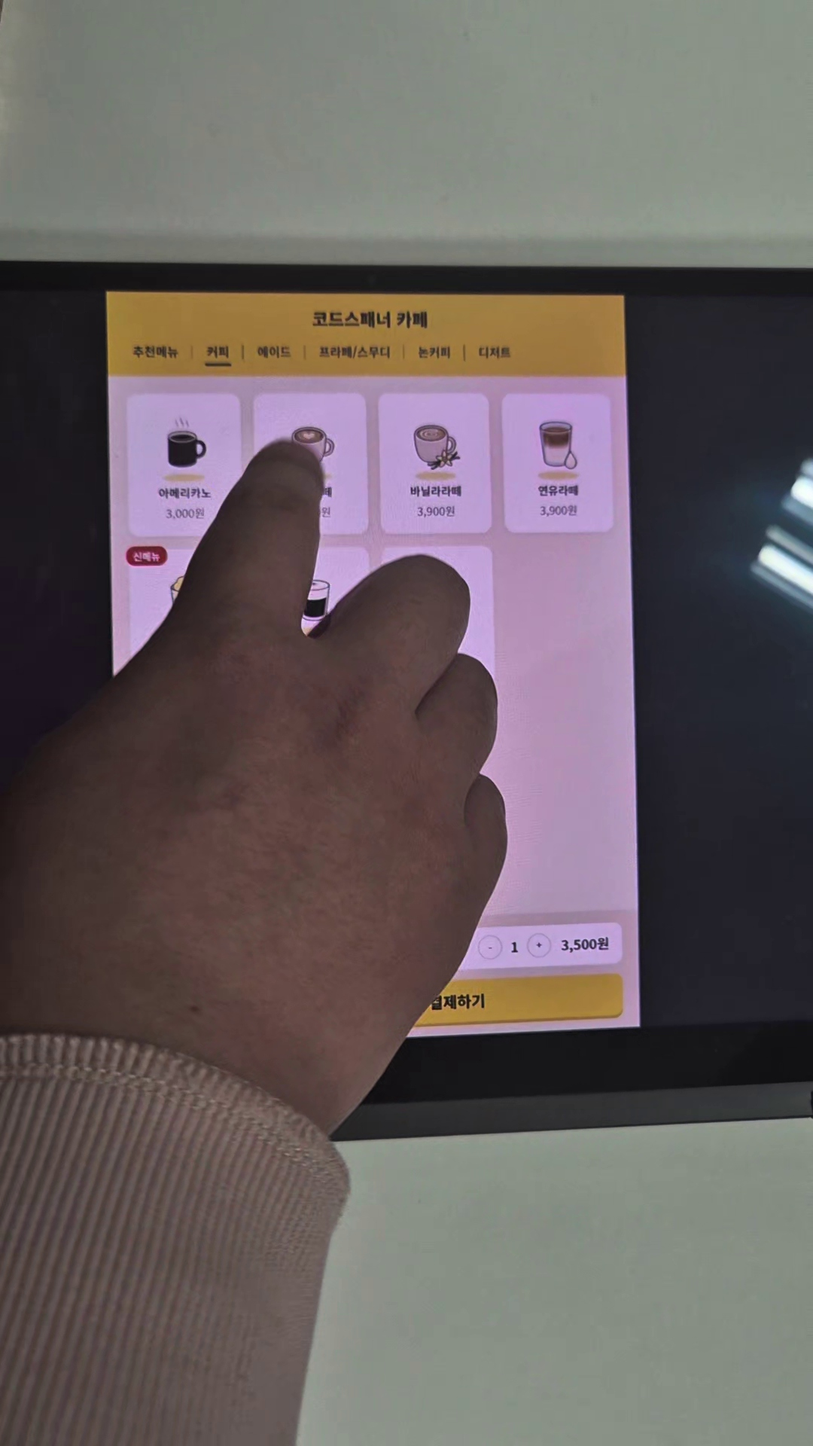action_button: (324, 973, 622, 1031)
category_tab: (319, 345, 391, 358), (133, 344, 177, 360), (257, 345, 292, 358), (479, 346, 511, 359), (418, 346, 452, 358), (206, 345, 230, 359)
menu_back: (127, 395, 242, 536), (254, 393, 368, 535), (502, 392, 613, 532), (380, 393, 490, 533)
menu_name: (158, 488, 211, 499), (410, 486, 463, 497), (538, 485, 580, 497)
menu_price: (417, 506, 455, 518), (166, 508, 204, 519), (540, 505, 577, 516)
